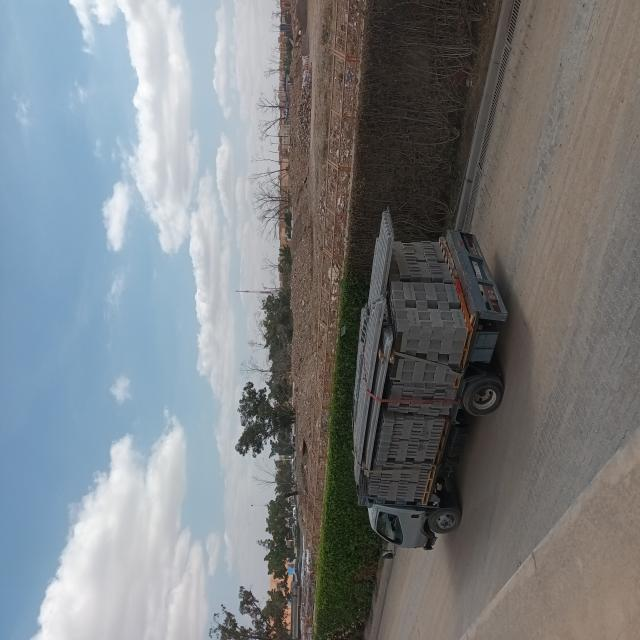bricks: (365, 241, 468, 506)
